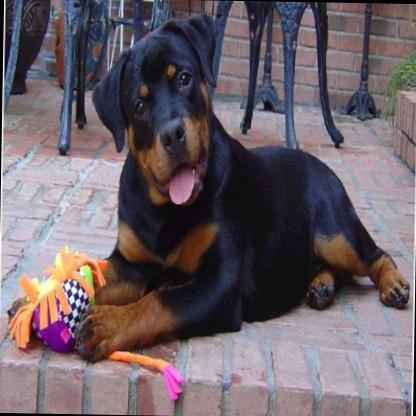Rottweiler: (6, 10, 414, 368)
